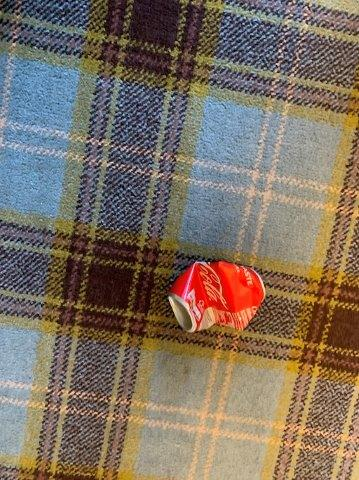kaleng: (169, 260, 265, 329)
